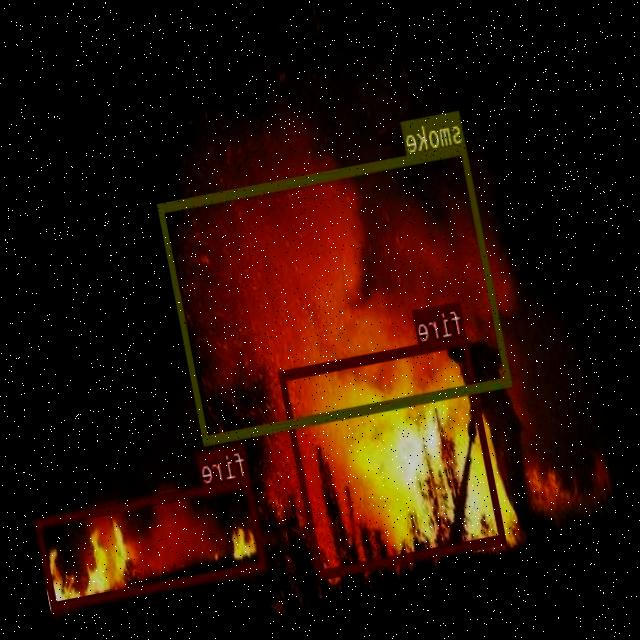fire: (278, 334, 506, 577), (36, 476, 268, 610)
smoke: (157, 143, 514, 444)
